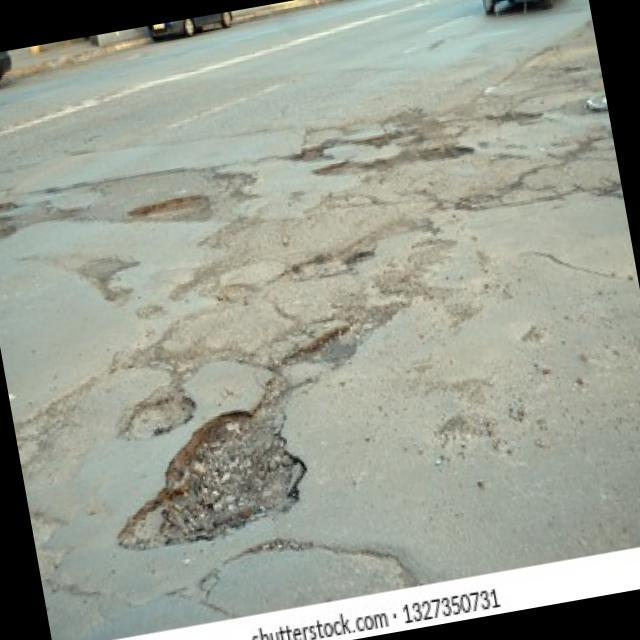Pothole: (97, 397, 316, 556), (280, 326, 363, 394), (164, 258, 255, 318), (108, 389, 202, 447), (280, 238, 380, 288), (125, 192, 212, 223), (310, 154, 380, 184), (413, 137, 474, 165), (488, 104, 544, 126), (99, 281, 134, 309), (288, 142, 324, 166), (134, 299, 165, 322), (0, 217, 18, 248), (0, 197, 25, 217)
